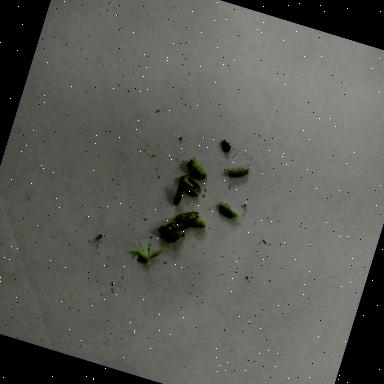pbw: (213, 195, 244, 220), (176, 172, 204, 198), (166, 211, 194, 236), (182, 155, 210, 178), (171, 204, 199, 226), (226, 160, 250, 182), (172, 180, 187, 206), (186, 215, 206, 230)
